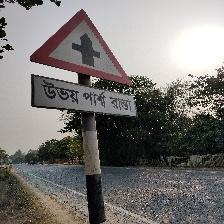Crossroad: (26, 6, 140, 119)
